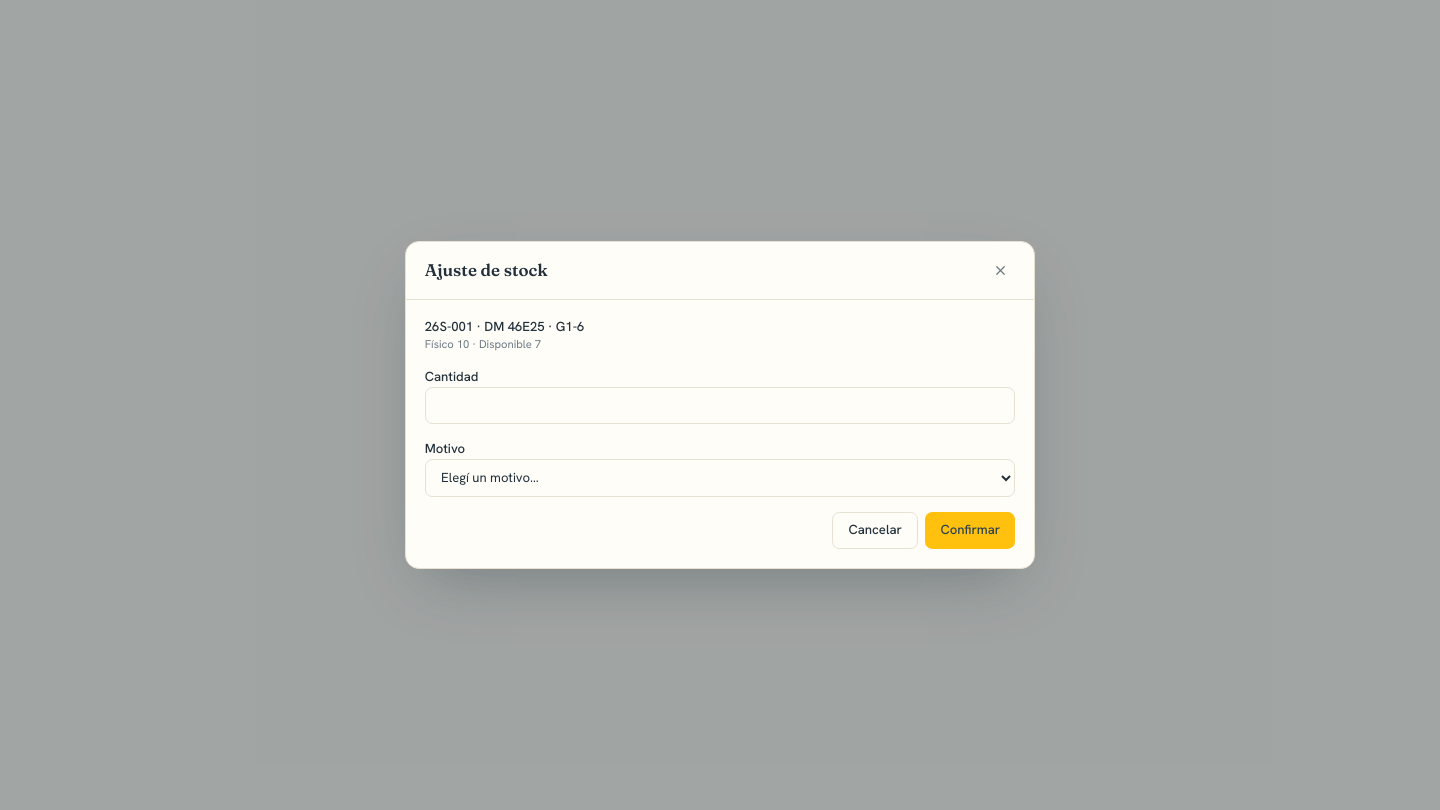
it: MovimientoDialog › el ajuste con motivo "Otro" exige el detalle (R1.4)
The image size is (1440, 810).
Type "3" into the number field labelled "Cantidad" at (720, 406), box [425,387,1015,424]
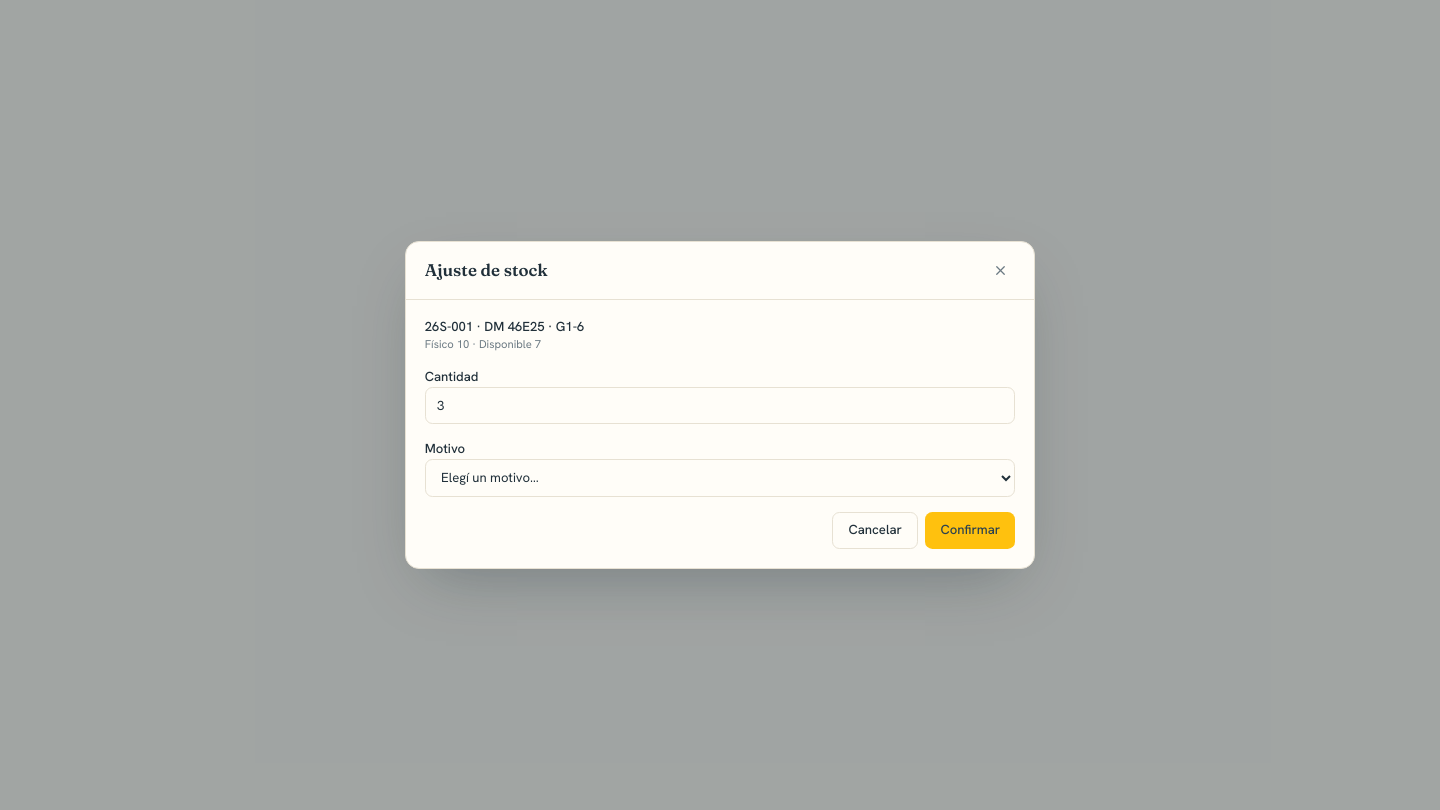
Select "Otro" in the dropdown labelled "Motivo" at (720, 478), box [425,459,1015,496]
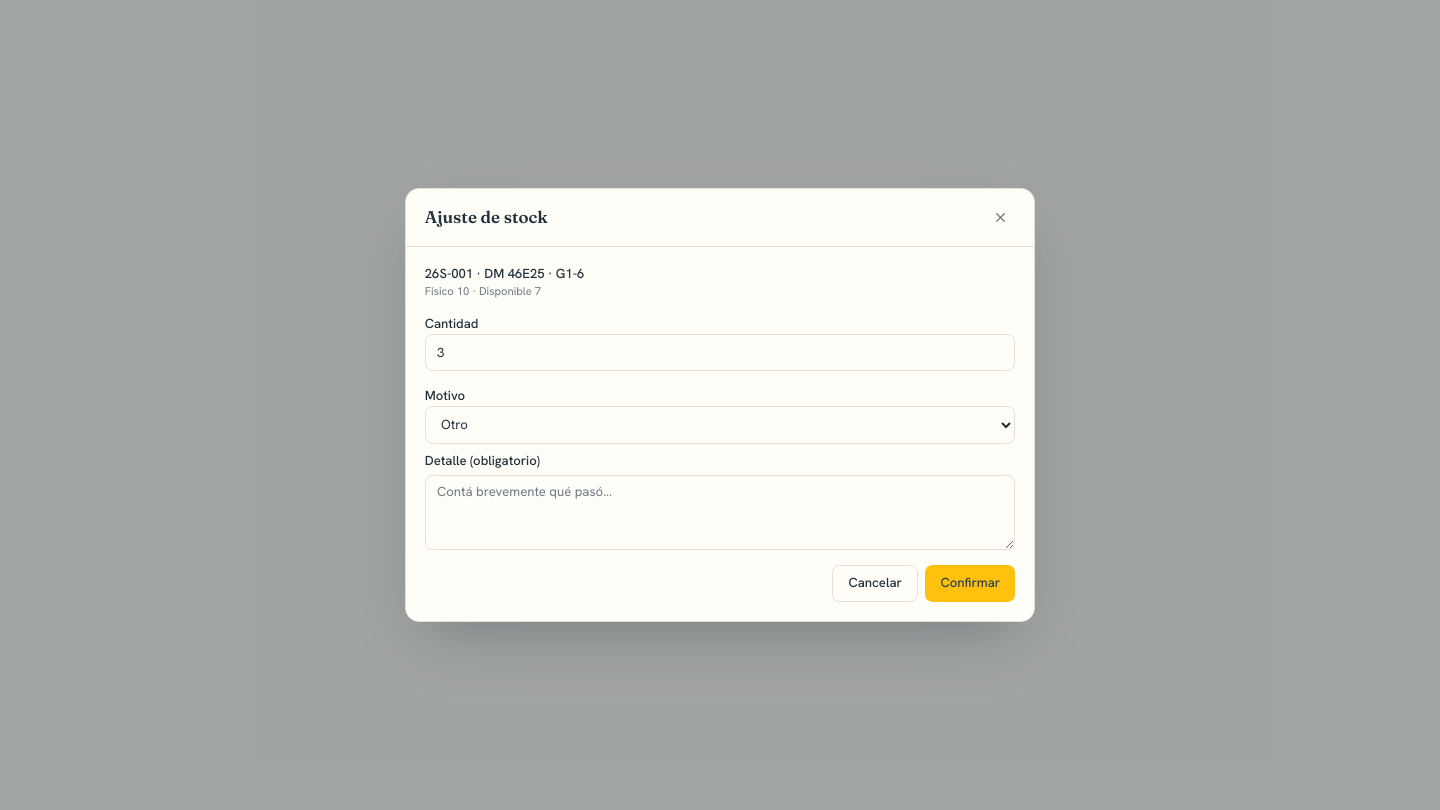
Click the button "Confirmar" at (970, 583), box [926,564,1015,602]
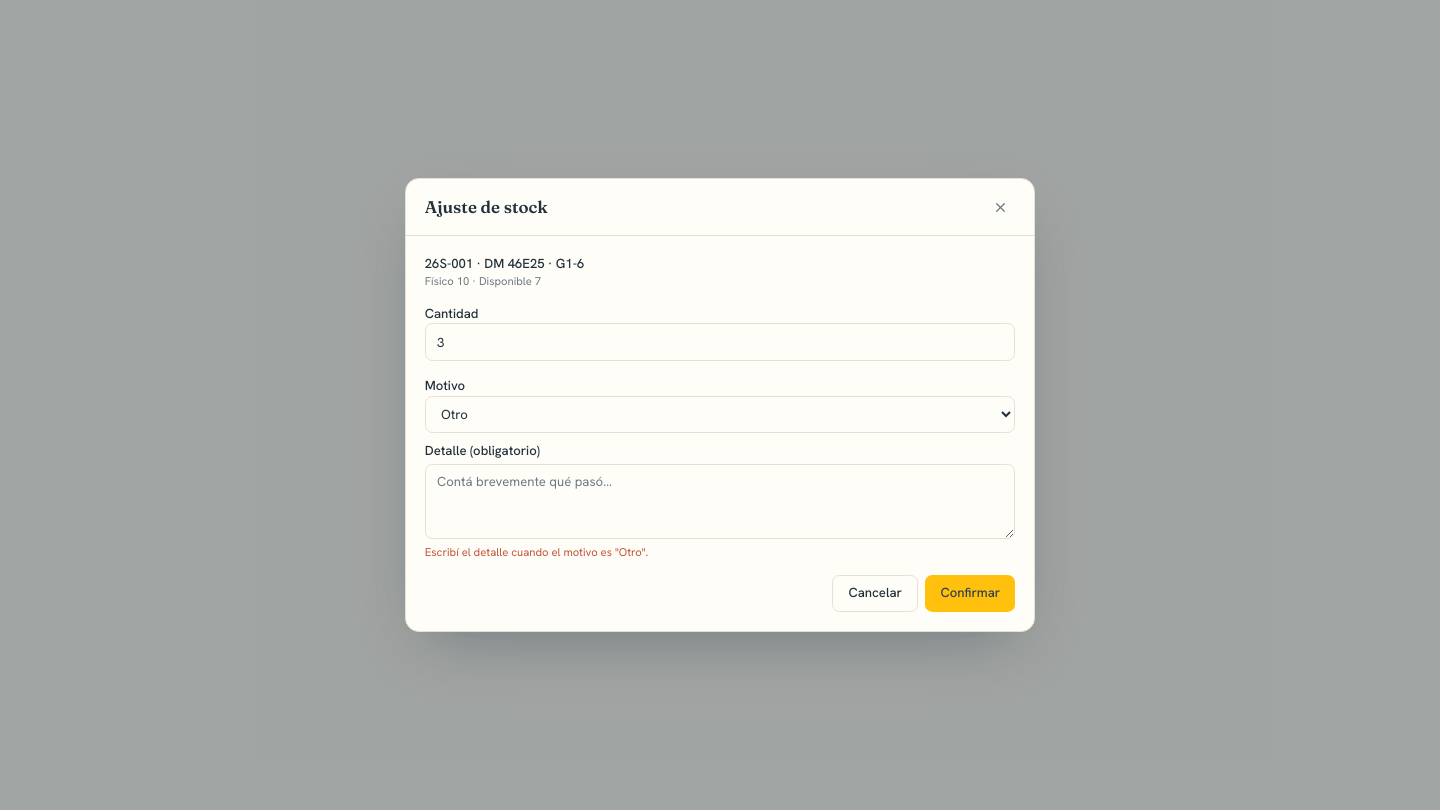
Check: the text "Escribí el detalle cuando el motivo es \"Otro\"." is shown, box [425,545,648,559]
